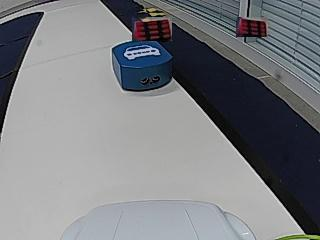safety: (124, 44, 160, 60)
